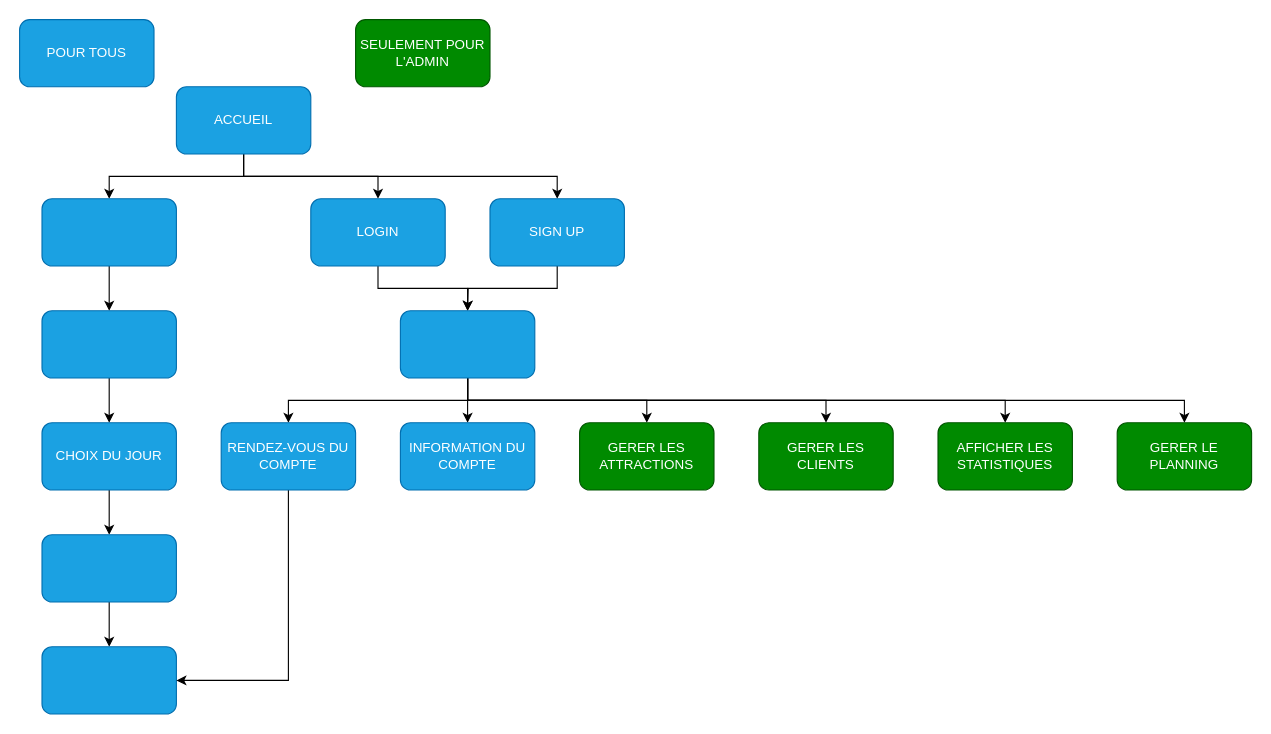
Image size: 1271x734. Some labels were removed from this diagram. The centre of each missing label's shape, as x and y in pixels:
CHOIX DES ATTRACTIONS: the point at 108,568
ESPACE COMPTE: the point at 467,344
PAGE ATTRACTION: the point at 108,232
PAYEMENT DE LA COMMANDE: the point at 108,680
RESERVATION POUR UN NOMBRE DE PERSONNE: the point at 108,344
